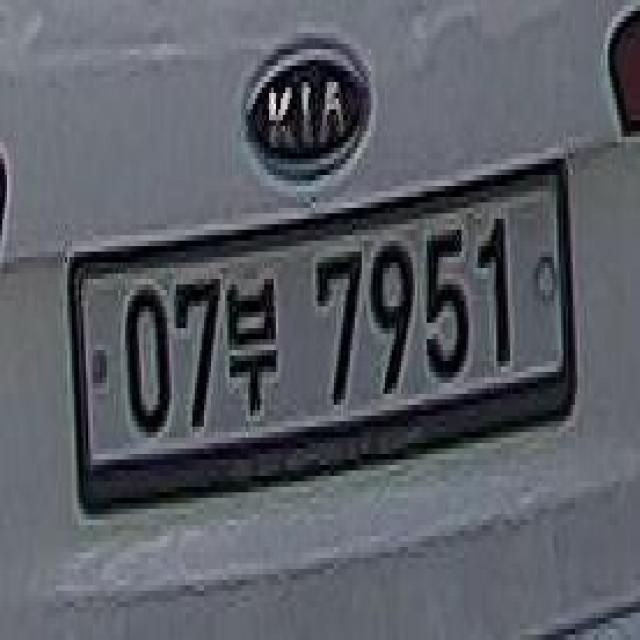illegal_plate: (68, 169, 578, 514)
